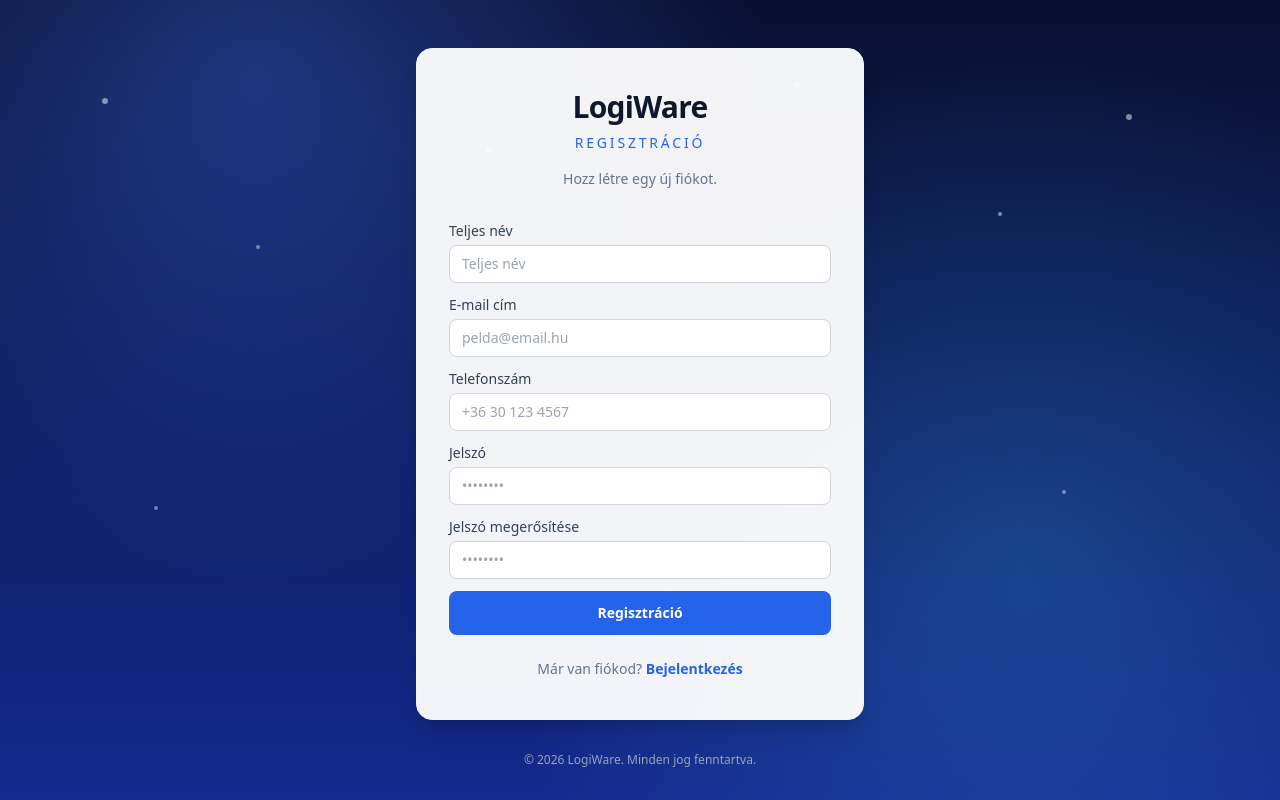
Test: shows invalid phone error for malformed phone input
The image size is (1280, 800).
In the field labelled "Teljes név": (640, 264) [449, 245, 831, 283], type "Teszt Elek"
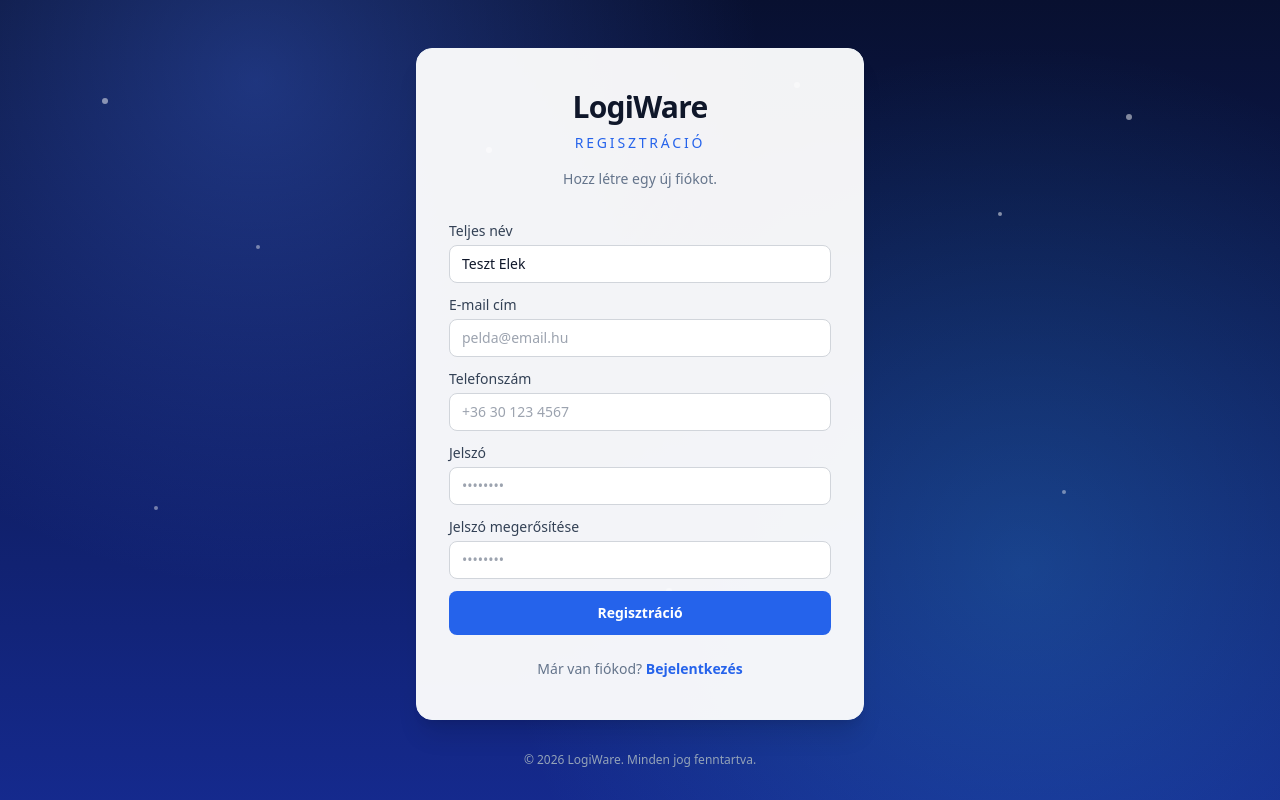
In the field labelled "E-mail cím": (640, 338) [449, 319, 831, 357], type "test@example.com"
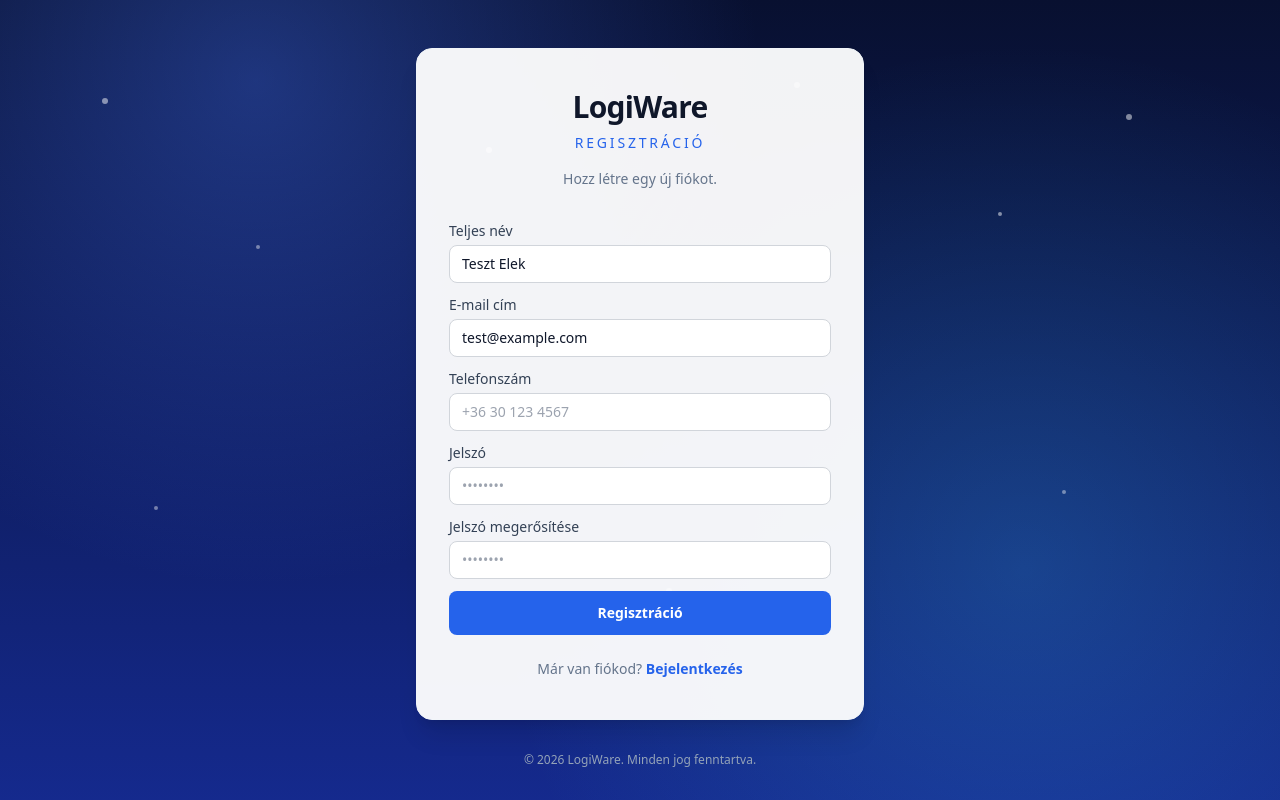
In the field labelled "Telefonszám": (640, 412) [449, 393, 831, 431], type "+522452562525!%\"!%\"!%2"
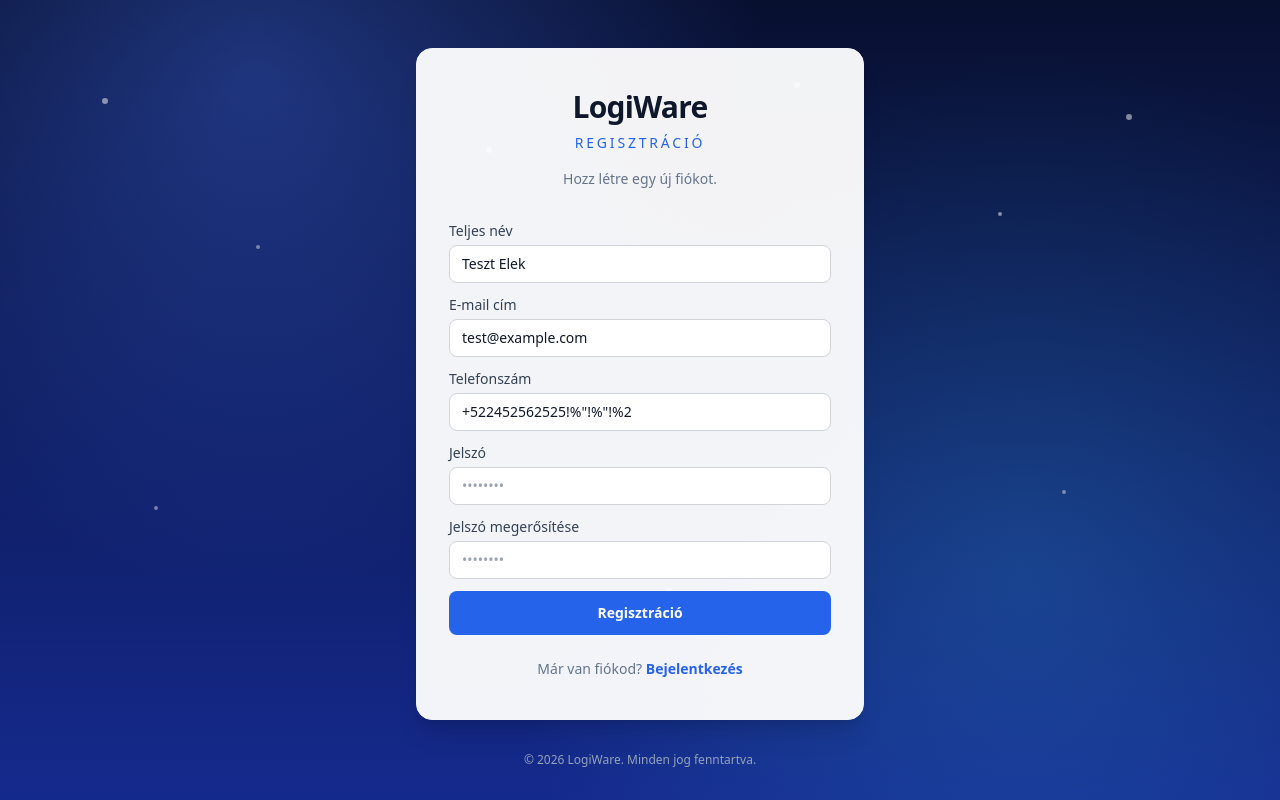
In the password field labelled "Jelszó": (640, 486) [449, 467, 831, 505], type "pass123"
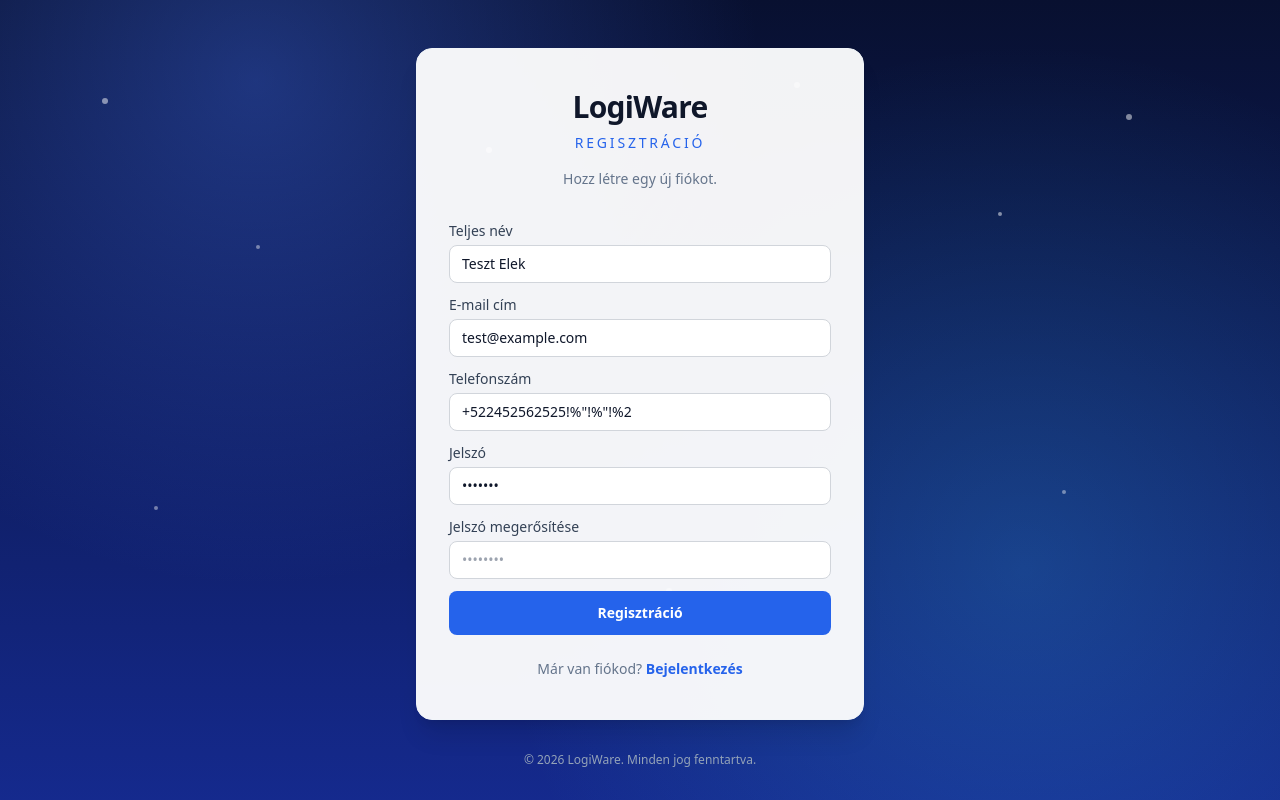
In the password field labelled "Jelszó megerősítése": (640, 560) [449, 541, 831, 579], type "pass123"
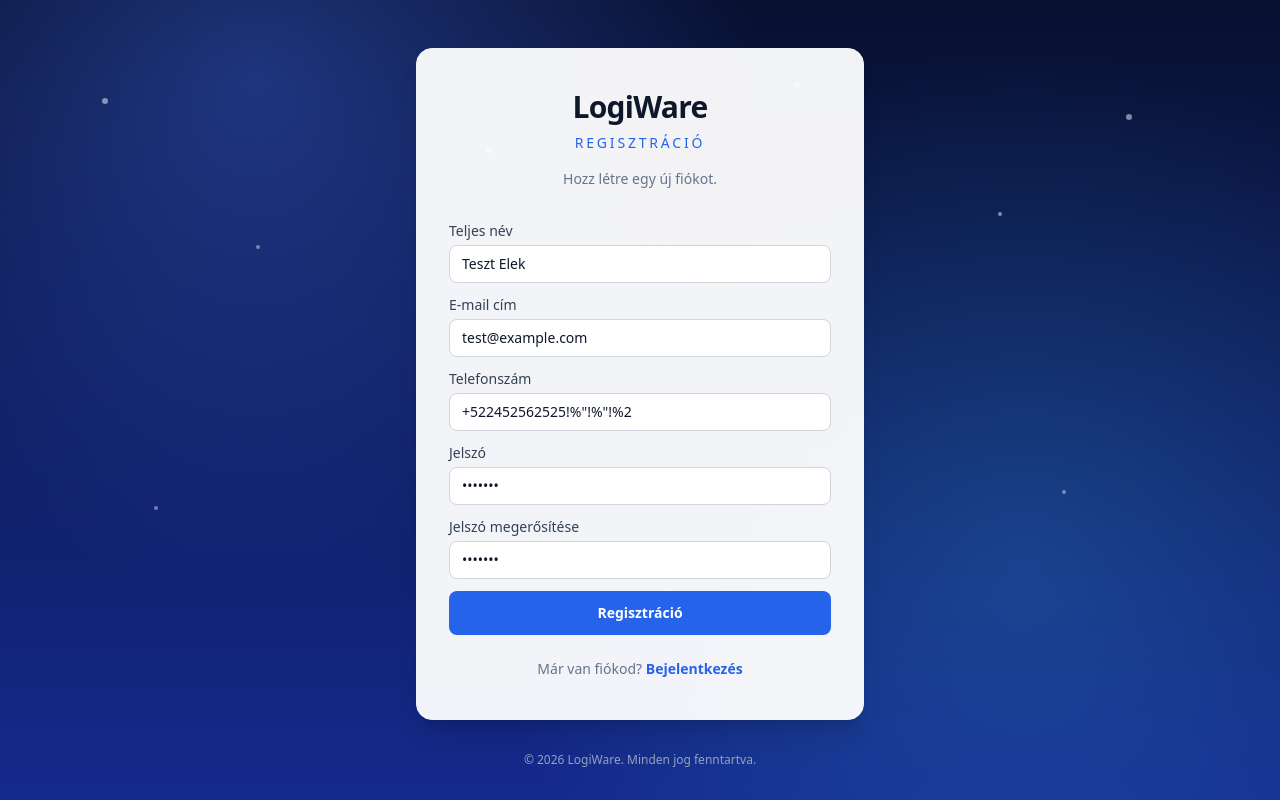
Submit the form, box [449, 221, 831, 635]
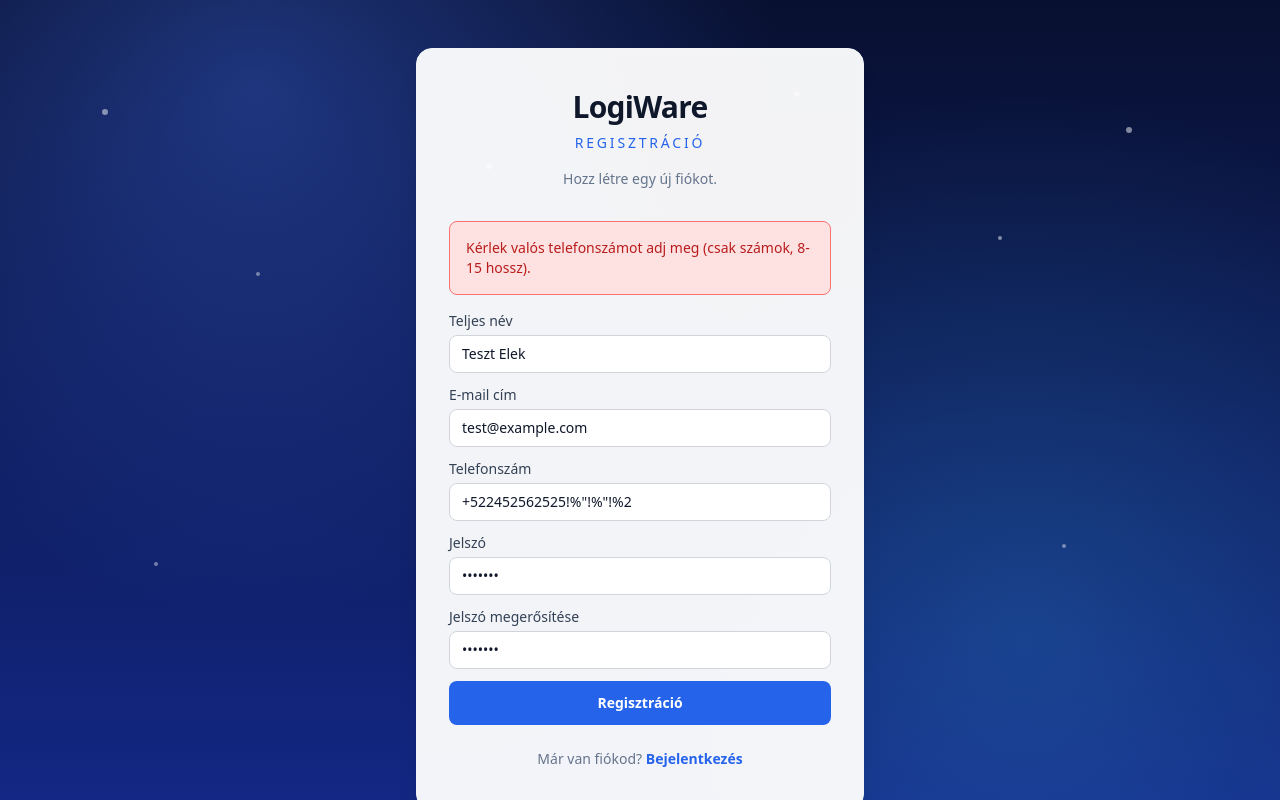
Now the text "valós telefonszámot adj meg" is shown, box [466, 238, 810, 277]
